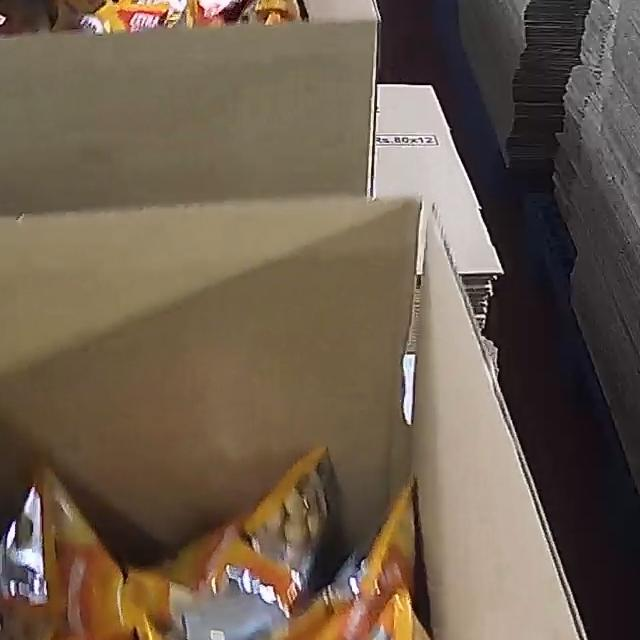cheese: (0, 443, 485, 640), (0, 0, 342, 42)
